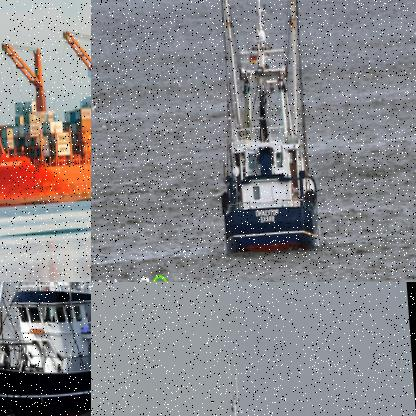Fishing Boat: (204, 0, 323, 258), (91, 354, 309, 415), (0, 282, 90, 415)
Merchant Ship: (0, 20, 90, 215)
